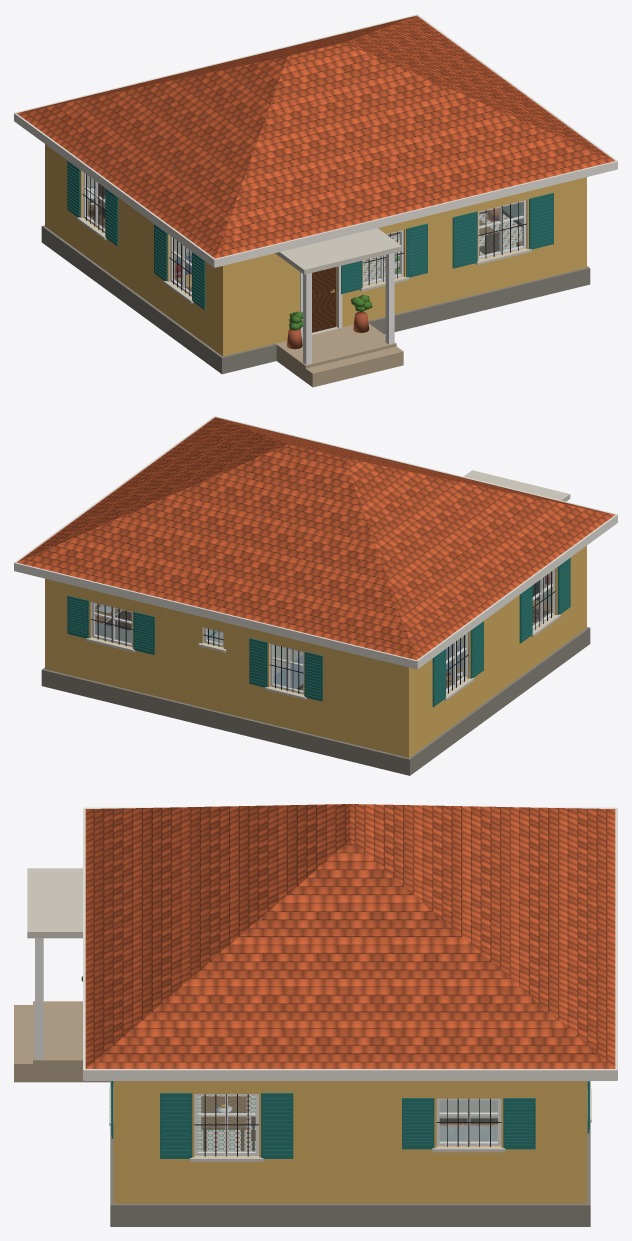
The model's file is house-riverside.glb.
3 views of the same model, one above another, from view 1: azimuth 30°, elevation 25°; view 2: azimuth 150°, elevation 25°; view 3: azimuth 270°, elevation 25° (orthographic). The views are drawn at different scales.
Visible parts, largest first — view 1: Exterior, Interior, Glass, Door_front; view 2: Exterior, Glass, Interior; view 3: Exterior, Interior, Glass.
Boxes of the visible parts, box(x1,y1,x2,y2) form: Exterior: box(14, 14, 617, 387); Interior: box(88, 176, 522, 291); Glass: box(87, 175, 522, 292); Door_front: box(312, 267, 335, 332); Exterior: box(14, 416, 617, 775); Glass: box(95, 572, 550, 690); Interior: box(95, 573, 549, 690); Exterior: box(14, 804, 617, 1226); Interior: box(197, 1095, 497, 1151); Glass: box(198, 1095, 497, 1151).
Size of the model in its own units: 11.54 by 5.84 by 11.22.
29 materials, 14 textured.
